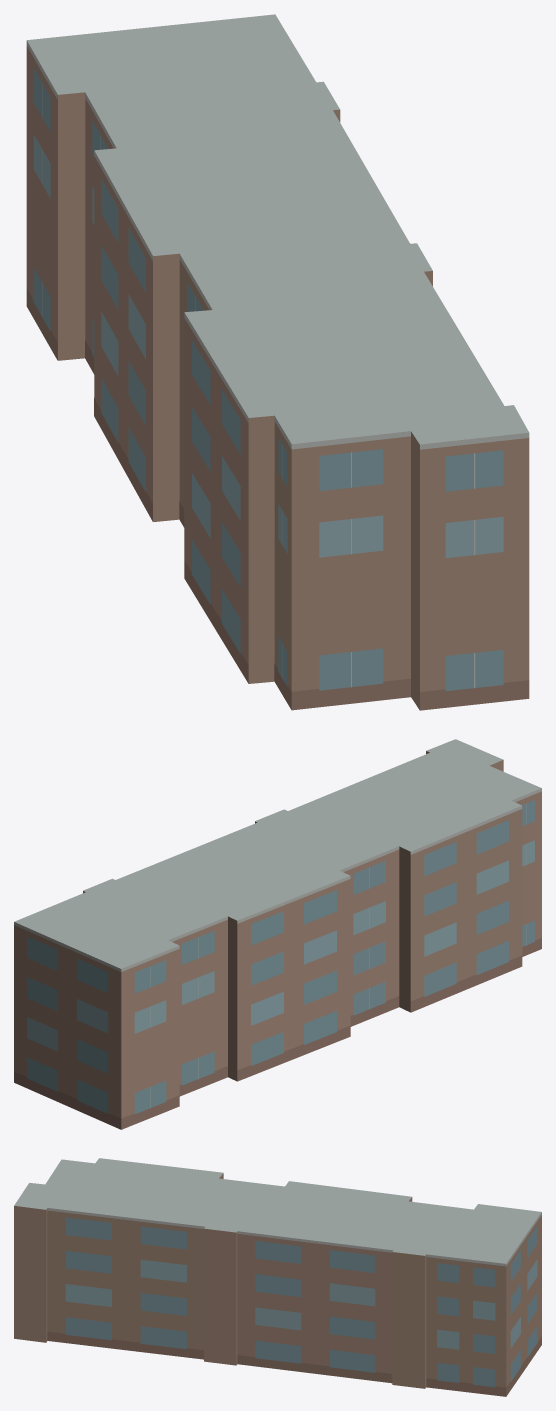
Rendered from survey-upis-32947118.glb.
The picture shows the model from 3 angles, top to bottom: view 1: azimuth 30°, elevation 25°; view 2: azimuth 150°, elevation 25°; view 3: azimuth 270°, elevation 25°; orthographic projection. The views are drawn at different scales.
Parts seen in each view (by area): view 1: survey-upis-32947118.tmp; view 2: survey-upis-32947118.tmp; view 3: survey-upis-32947118.tmp.
Boxes of the visible parts, x1=… form: survey-upis-32947118.tmp: x1=26, y1=14, x2=529, y2=710; survey-upis-32947118.tmp: x1=14, y1=739, x2=541, y2=1129; survey-upis-32947118.tmp: x1=14, y1=1158, x2=541, y2=1396.
Bounding box in the file's own units: 21.33 × 12.5 × 44.98.
